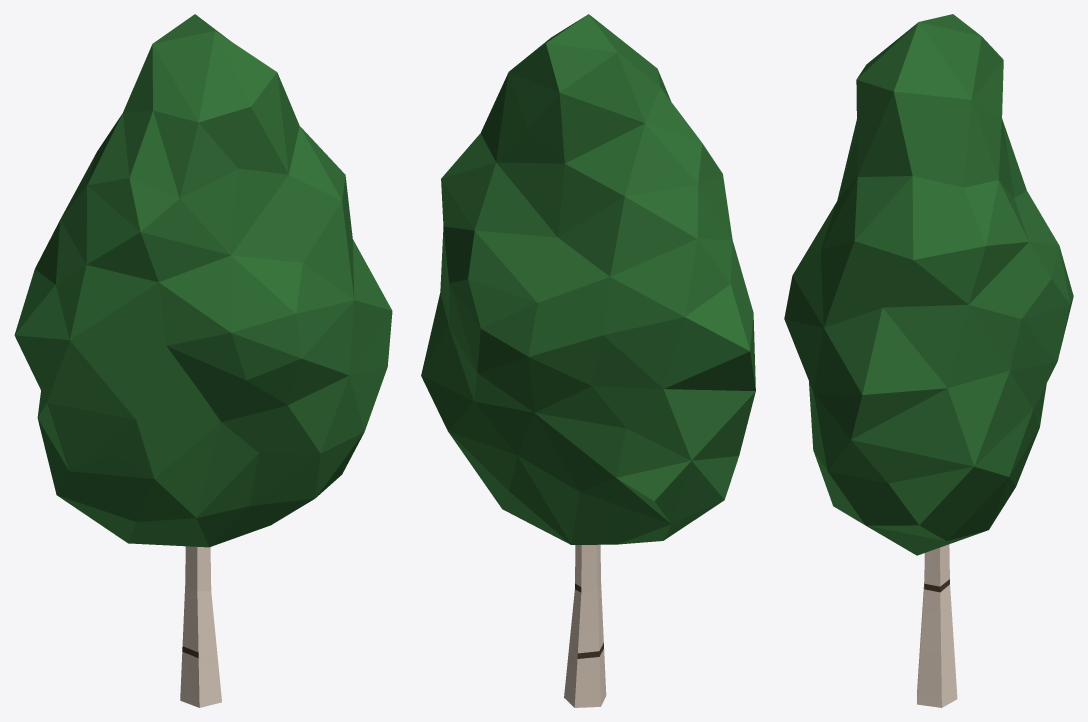
File: tree-birch.glb
3 views of the same model, side by side, from view 1: azimuth 30°, elevation 25°; view 2: azimuth 150°, elevation 25°; view 3: azimuth 270°, elevation 25° (orthographic).
Visible parts, largest first — view 1: tree-birch; view 2: tree-birch; view 3: tree-birch.
Boxes of the visible parts, box(x1,y1,x2,y2) form: tree-birch: box(14, 14, 392, 707); tree-birch: box(421, 14, 755, 707); tree-birch: box(784, 14, 1073, 707).
Size of the model in its own units: 4.17 by 8.13 by 3.14.
